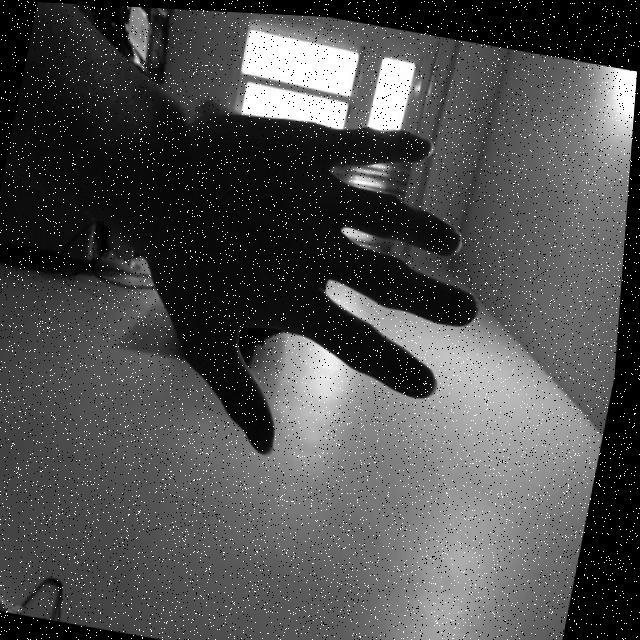no-gloves: (120, 81, 518, 484)
